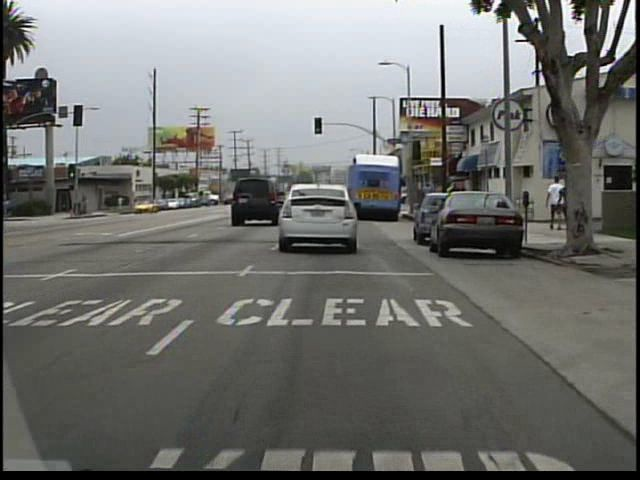person: (542, 172, 563, 235), (553, 177, 570, 233), (418, 180, 437, 220), (117, 195, 127, 211)
